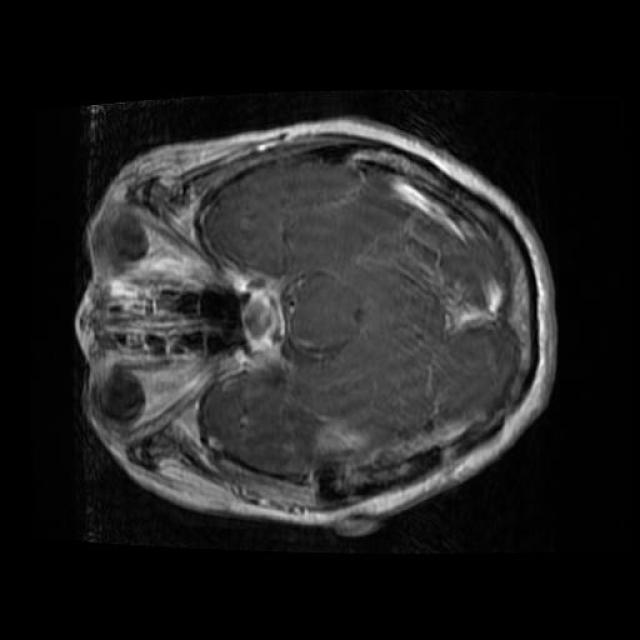Glioma: (312, 411, 371, 462)
